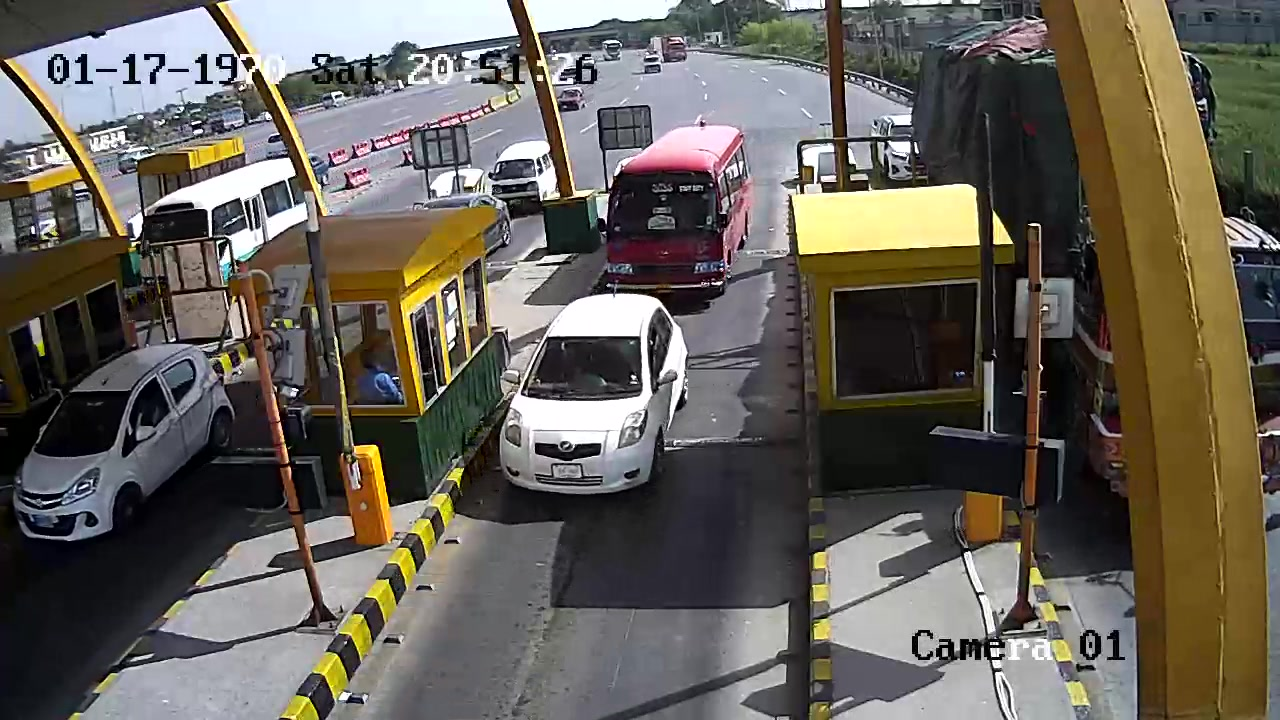F1: (494, 293, 695, 513)
